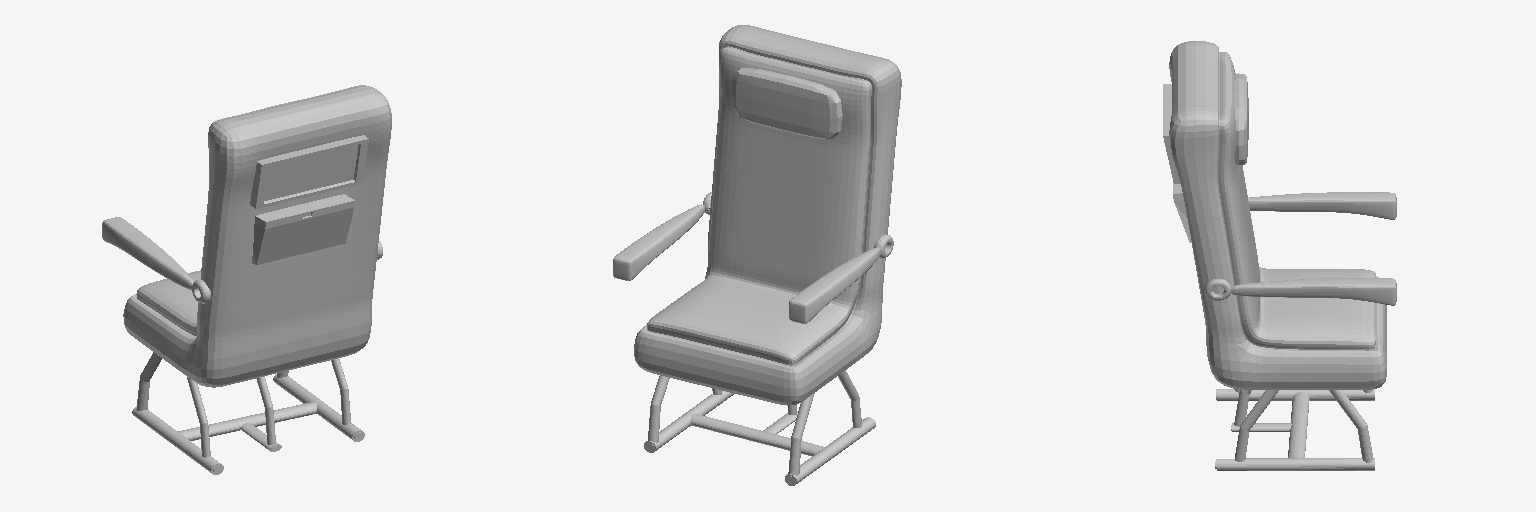
File: Silla.obj
The picture shows the model from 3 angles: view 1: azimuth 30°, elevation 25°; view 2: azimuth 150°, elevation 25°; view 3: azimuth 270°, elevation 25°; orthographic projection.
Visible parts, largest first — view 1: Cube.001, Cylinder.003, Cube.004_Cube.005, Cube.005_Cube.006, Cube.002_Cube.003; view 2: Cube.001, Cylinder.003, Cube.003_Cube.004, Cube.002_Cube.003; view 3: Cube.001, Cylinder.003, Cube.002_Cube.003, Cube.003_Cube.004, Cube.004_Cube.005.
Part boxes in pixels (bbox=[...]): Cube.001: bbox=[123, 85, 391, 387]; Cylinder.003: bbox=[132, 352, 364, 474]; Cube.004_Cube.005: bbox=[250, 135, 368, 208]; Cube.005_Cube.006: bbox=[252, 194, 354, 264]; Cube.002_Cube.003: bbox=[102, 217, 193, 289]; Cube.001: bbox=[634, 25, 901, 404]; Cylinder.003: bbox=[644, 370, 875, 485]; Cube.003_Cube.004: bbox=[731, 68, 842, 138]; Cube.002_Cube.003: bbox=[613, 204, 881, 323]; Cube.001: bbox=[1169, 41, 1386, 389]; Cylinder.003: bbox=[1215, 389, 1374, 470]; Cube.002_Cube.003: bbox=[1231, 192, 1396, 305]; Cube.003_Cube.004: bbox=[1234, 73, 1248, 164]; Cube.004_Cube.005: bbox=[1163, 84, 1180, 183].
Bounding box in the file's own units: 0.4542 × 0.7953 × 0.4685.